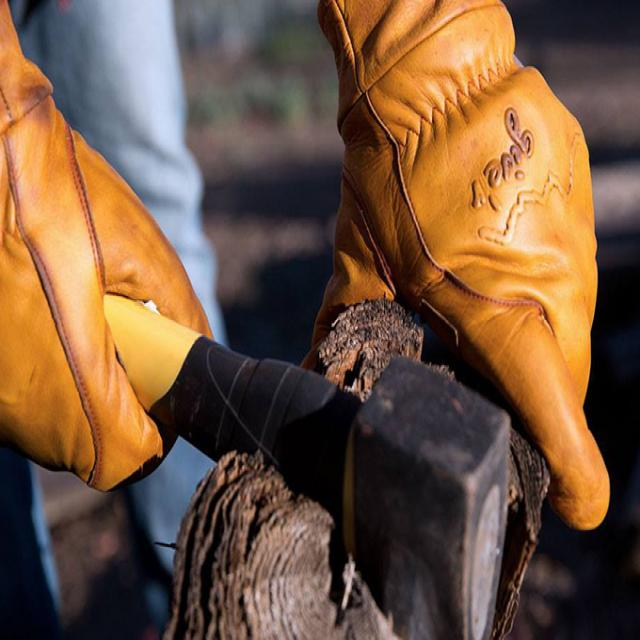gloves: (307, 0, 612, 533), (0, 0, 212, 486)
